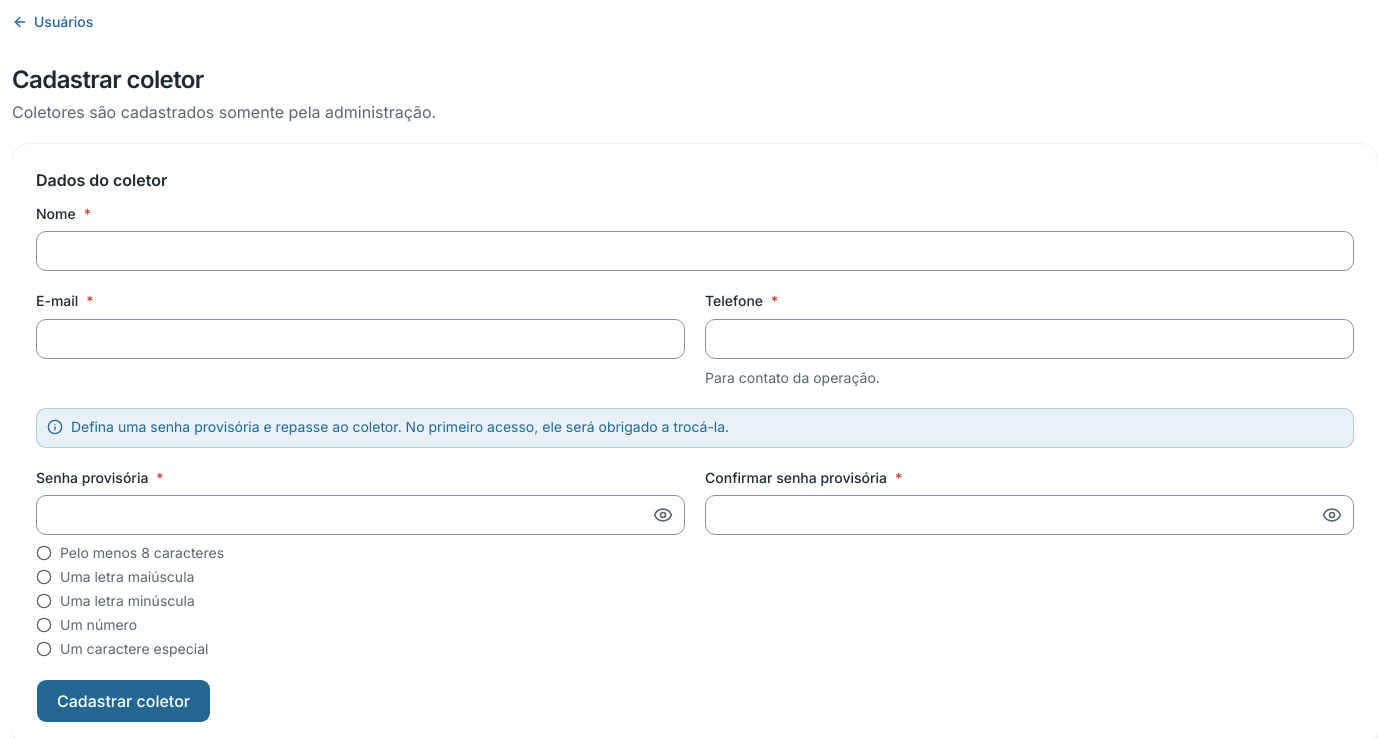
it: AdminCollectorForm — cadastro de coletor (DEC-083) › mostra a recusa da API no campo (e-mail em uso)
Type "Carlos Coletor" into the field labelled "Nome *" at (695, 251), box [36,231,1354,271]
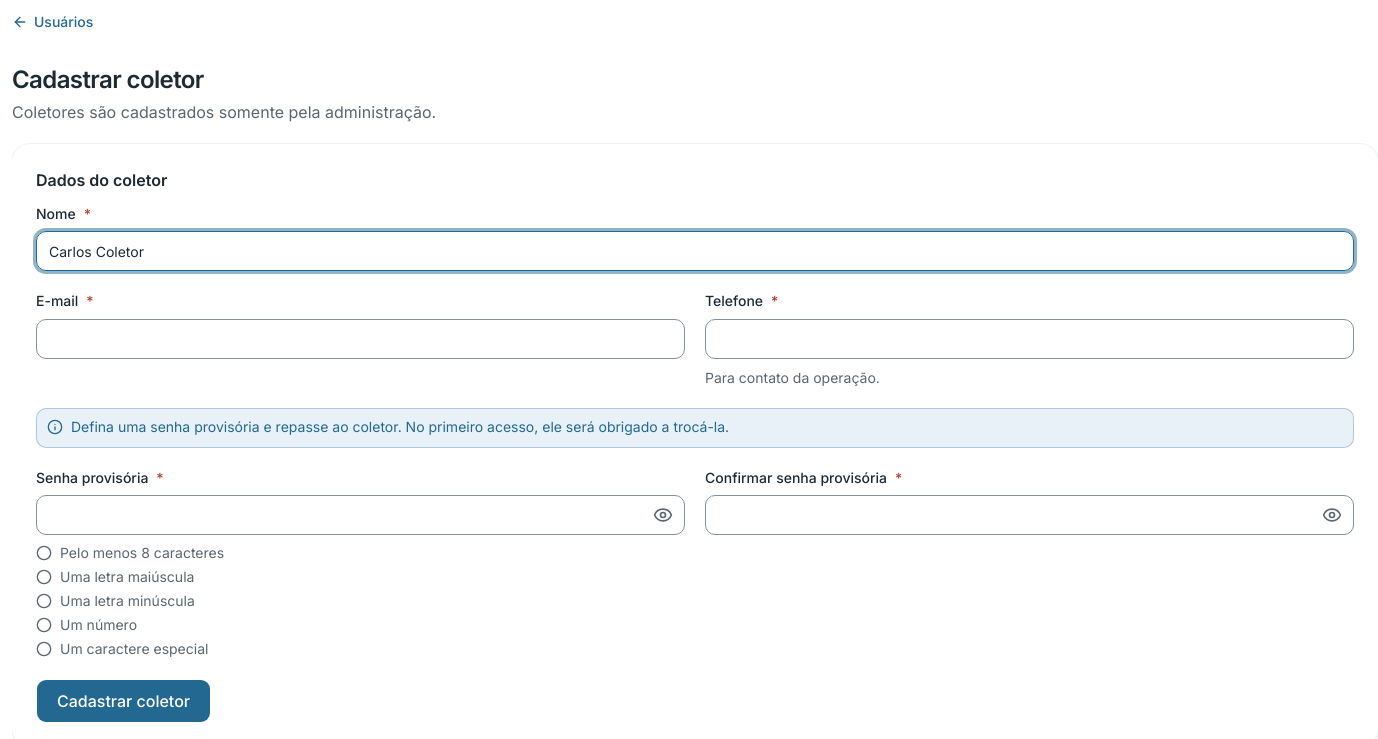
Type "carlos@ecobyte.local" into the field labelled "E-mail *" at (360, 338), box [36,318,685,358]
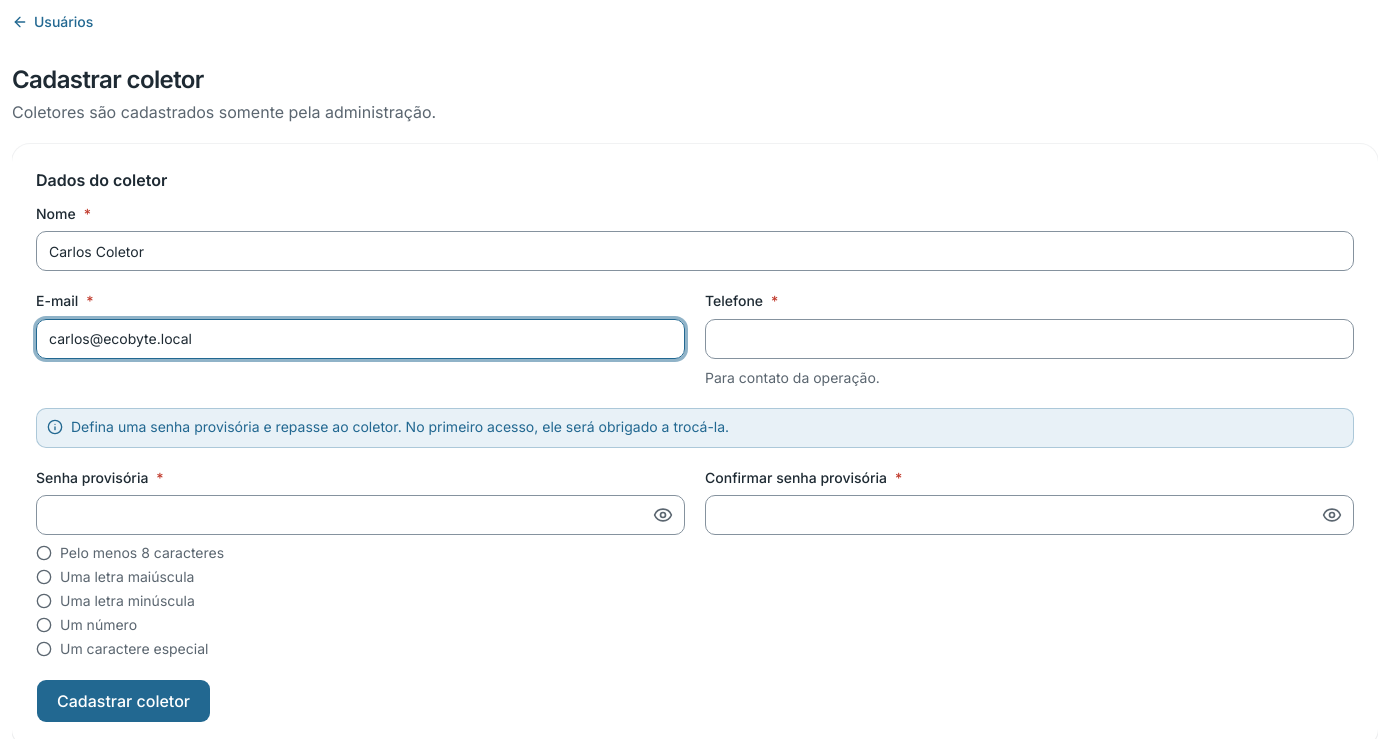
Type "11988887777" into the field labelled "Telefone *" at (1030, 338), box [705,318,1354,358]
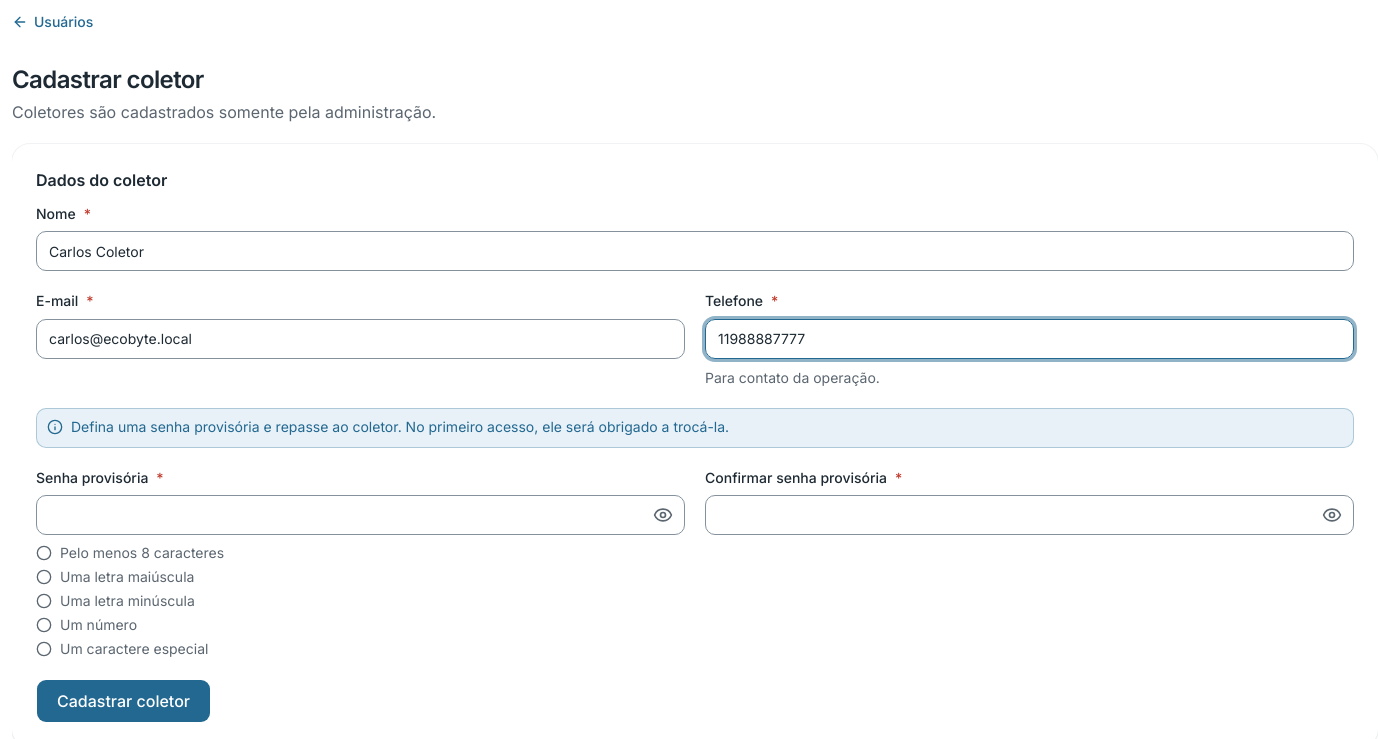
Type "Provisoria@123" into the password field labelled "Senha provisória *" at (360, 515), box [36,495,685,535]
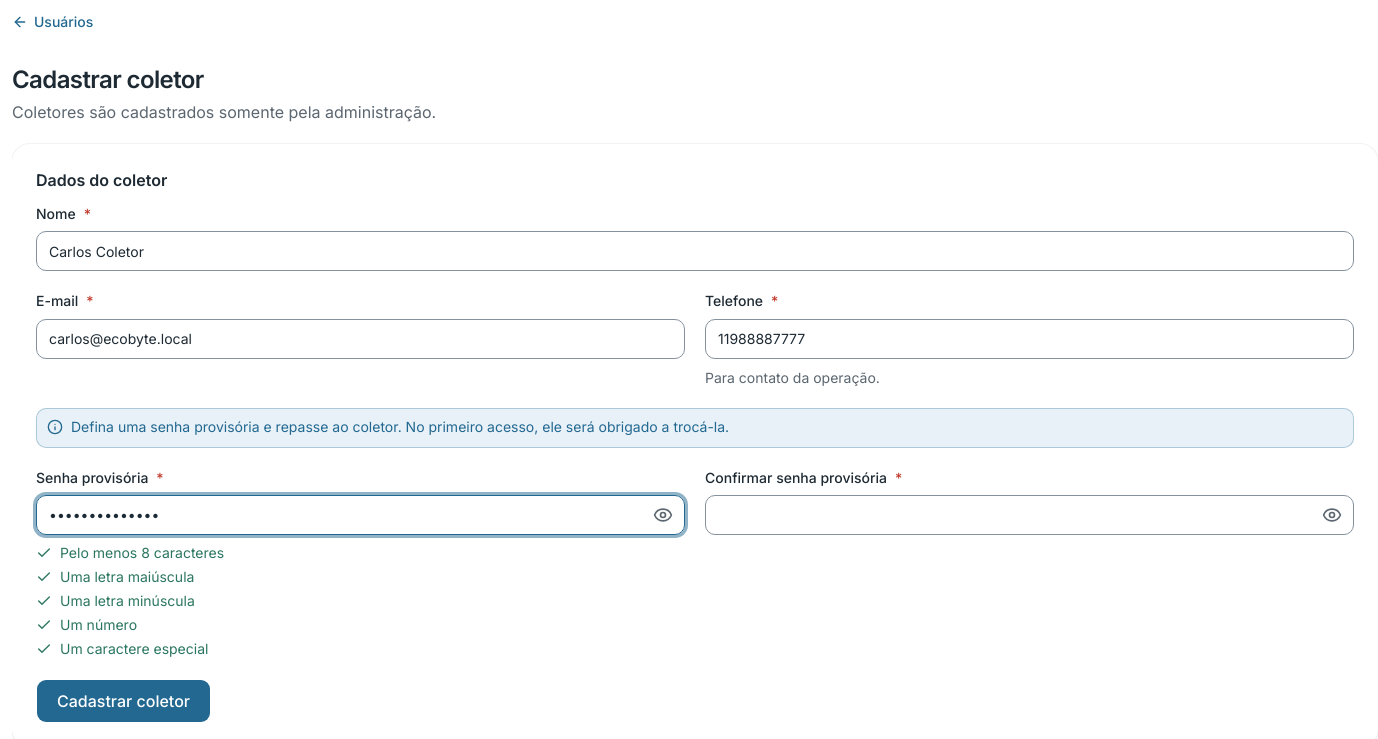
Type "Provisoria@123" into the password field labelled "Confirmar senha provisória *" at (1030, 515), box [705,495,1354,535]
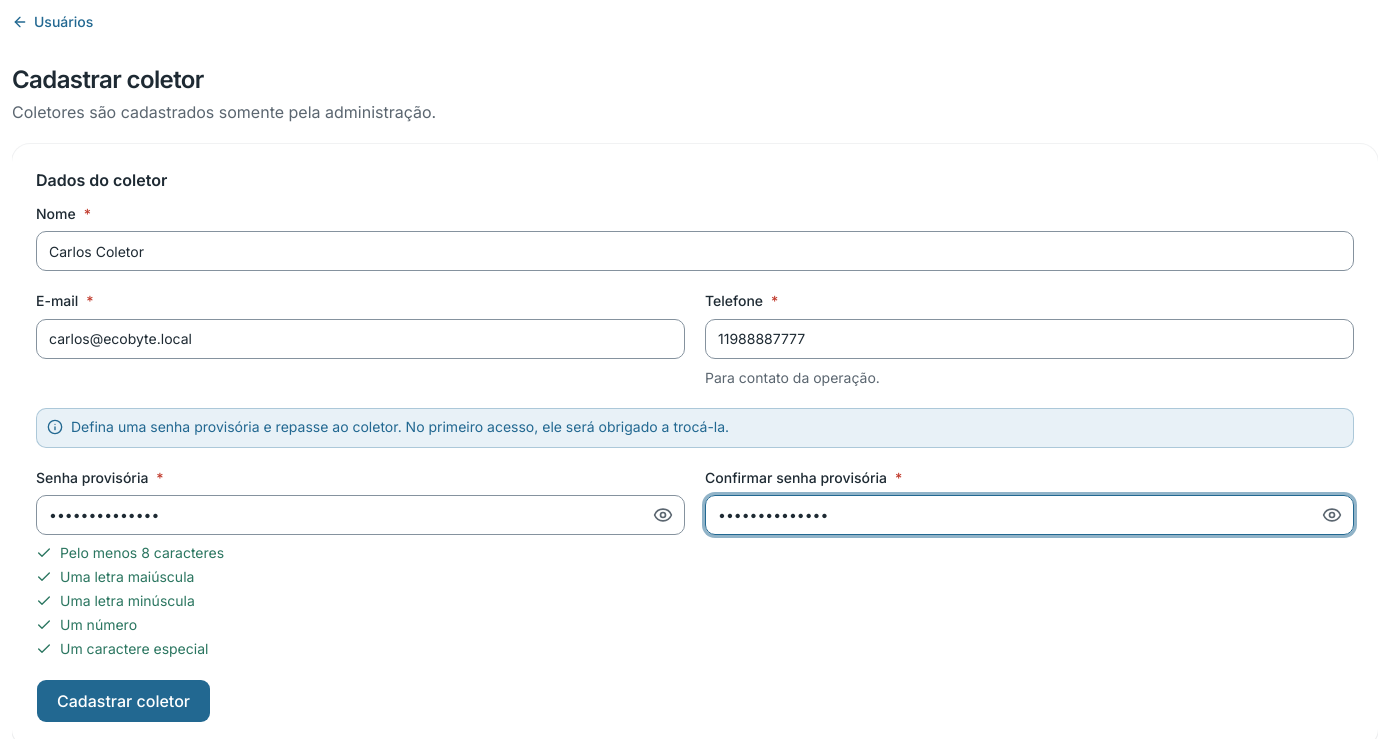
Click the button "Cadastrar coletor" at (124, 701), box [36,679,211,723]
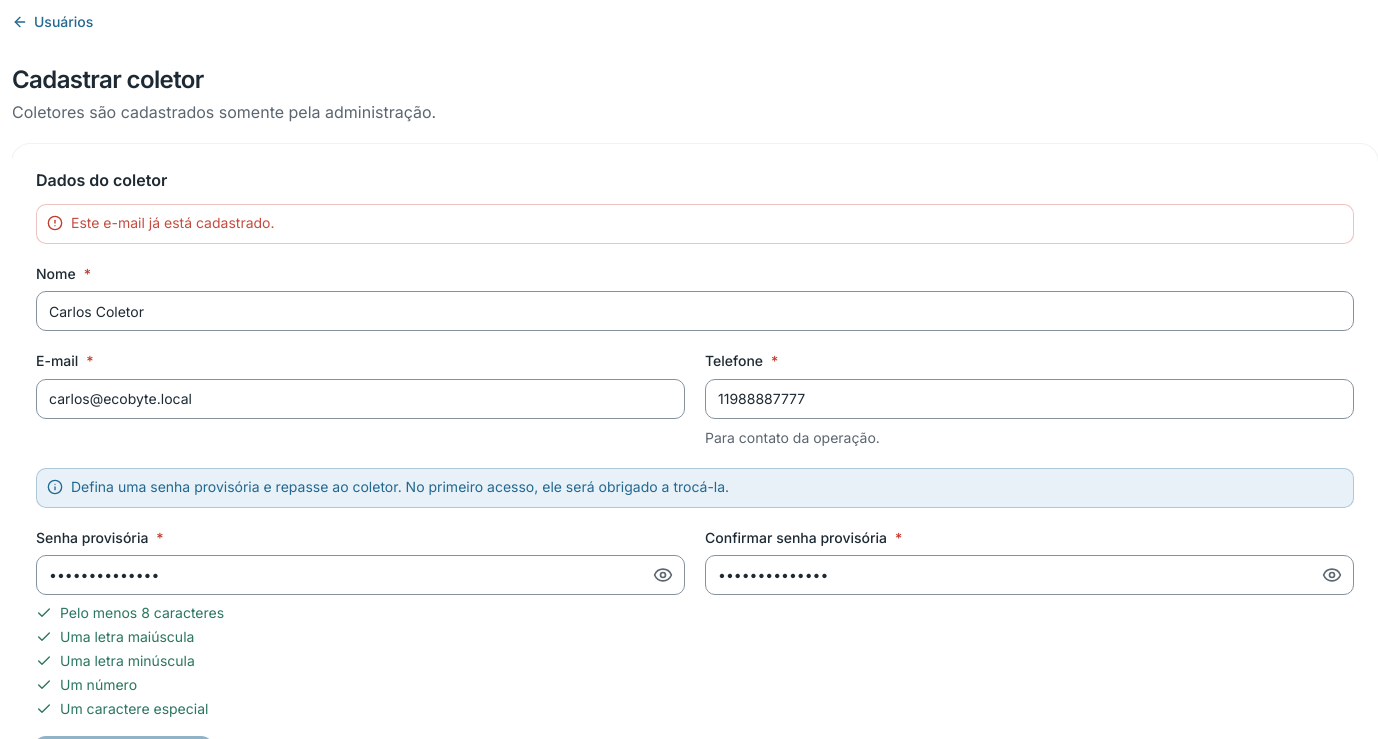
Now the text "Este e-mail já está cadastrado." is shown, box [71,214,274,231]
